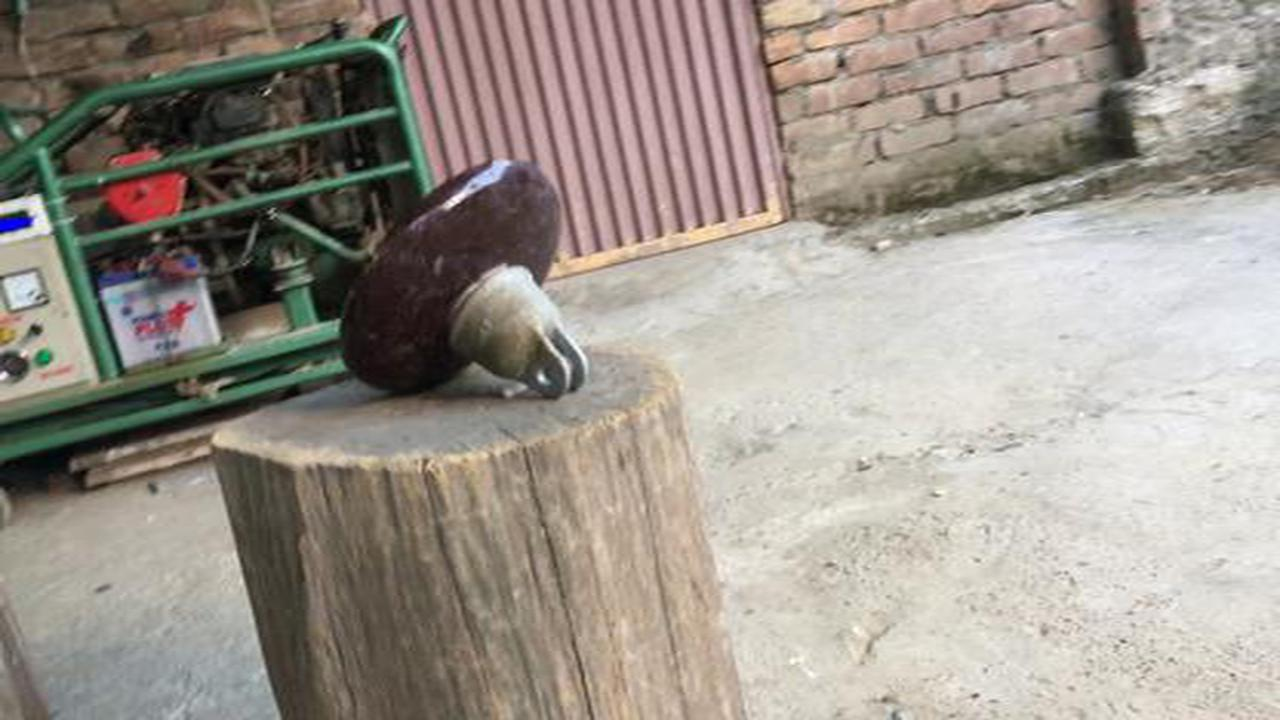insulator_disc: (334, 155, 594, 402)
